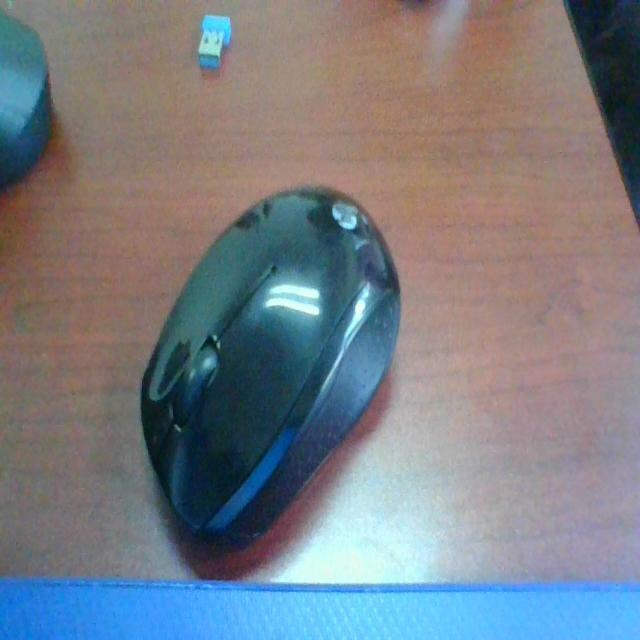mouse: (144, 145, 424, 594)
